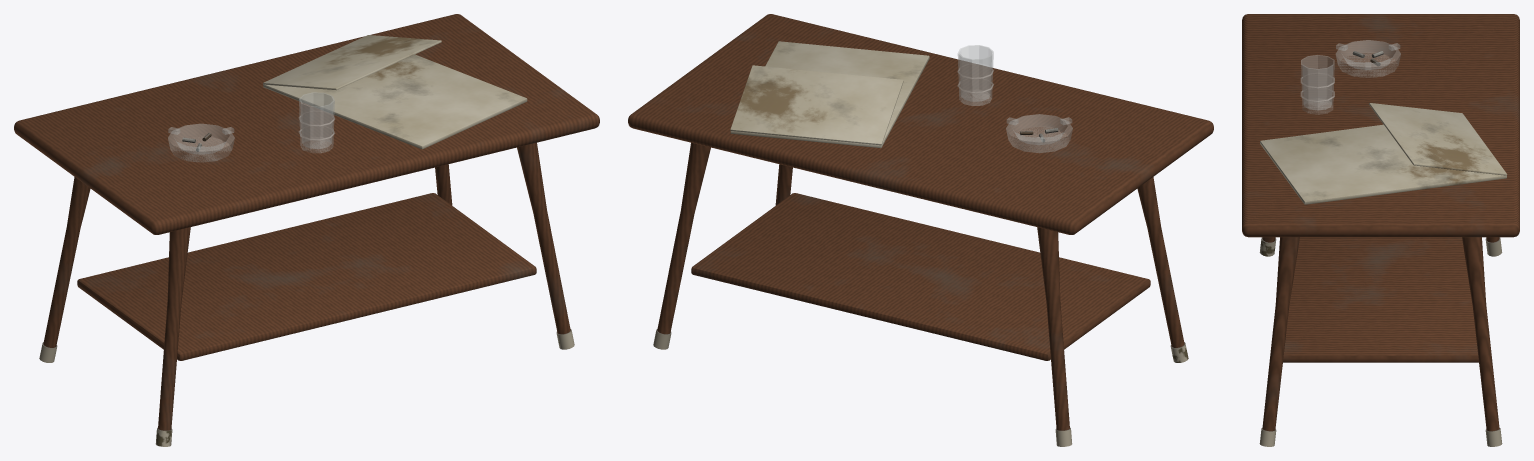
Rendered from SM_CoffeeTable.fbx.
3 renders of one model, left to right at view 1: azimuth 30°, elevation 25°; view 2: azimuth 150°, elevation 25°; view 3: azimuth 270°, elevation 25°, orthographic. The views are drawn at different scales.
Visible parts, largest first — view 1: SM_CoffeeTable; view 2: SM_CoffeeTable; view 3: SM_CoffeeTable.
Boxes of the visible parts, x1=… form: SM_CoffeeTable: x1=14, y1=14, x2=599, y2=446; SM_CoffeeTable: x1=628, y1=14, x2=1213, y2=446; SM_CoffeeTable: x1=1242, y1=14, x2=1519, y2=446.
Bounding box in the file's own units: 1 × 0.6046 × 0.55.
2 materials, 1 textured.
